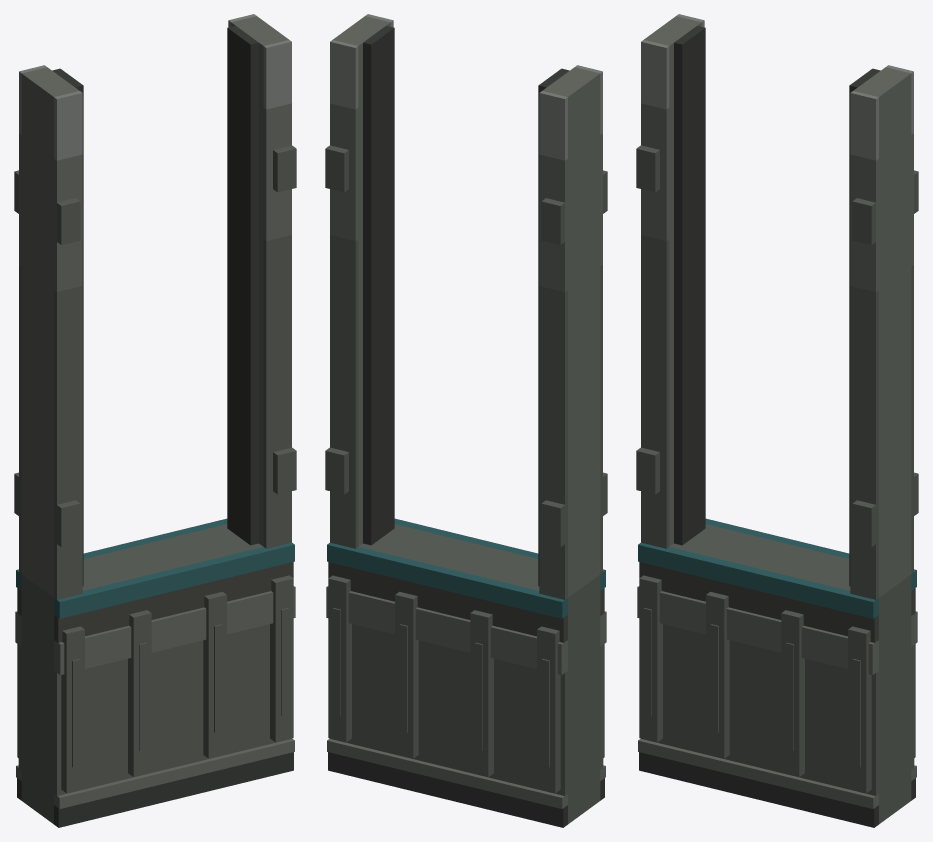
File: CMU3DColonyReinforcedWindowFrame.glb
3 views of the same model, side by side, from view 1: azimuth 30°, elevation 25°; view 2: azimuth 150°, elevation 25°; view 3: azimuth 330°, elevation 25° (orthographic).
Parts seen in each view (by area): view 1: Lower fascia -1, West free end carrier, East inner rubber seal, Deep colony sill, West carrier band 1.17 -1, East carrier band 1.17 -1, Raised sill rim -1, Pane seating lip -1, Upper recessed channel -1, Dark bottom seam -1, Foot rim -1, East free end carrier (+21 smaller); view 2: Lower fascia 1, West free end carrier, East inner rubber seal, Deep colony sill, West carrier band 1.17 1, East carrier band 1.17 1, Raised sill rim 1, Pane seating lip 1, Upper recessed channel 1, Dark bottom seam 1, Foot rim 1, East free end carrier (+21 smaller); view 3: Lower fascia -1, East free end carrier, West inner rubber seal, Deep colony sill, West carrier band 1.17 -1, East carrier band 1.17 -1, Raised sill rim -1, Pane seating lip -1, Upper recessed channel -1, Dark bottom seam -1, Foot rim -1, West free end carrier (+21 smaller).
Boxes of the visible parts, x1,y1,x2,y2 form: Lower fascia -1: (54,624,291,795); West free end carrier: (21,67,79,597); East inner rubber seal: (227,25,258,545); Deep colony sill: (21,524,263,824); West carrier band 1.17 -1: (54,286,82,498); East carrier band 1.17 -1: (263,235,291,447); Raised sill rim -1: (54,586,295,675); Pane seating lip -1: (54,542,294,618); Upper recessed channel -1: (54,562,293,642); Dark bottom seam -1: (54,752,293,827); Foot rim -1: (54,738,294,808); East free end carrier: (231,16,288,546); Lower fascia 1: (330,624,567,795); West free end carrier: (542,67,600,597); East inner rubber seal: (363,25,394,545); Deep colony sill: (358,524,600,824); West carrier band 1.17 1: (539,286,567,498); East carrier band 1.17 1: (330,235,358,447); Raised sill rim 1: (326,586,567,675); Pane seating lip 1: (327,542,567,618); Upper recessed channel 1: (328,562,567,642); Dark bottom seam 1: (328,752,567,827); Foot rim 1: (327,738,567,808); East free end carrier: (333,16,390,546); Lower fascia -1: (641,624,878,795); East free end carrier: (853,67,911,597); West inner rubber seal: (674,25,705,545); Deep colony sill: (669,524,911,824); West carrier band 1.17 -1: (641,235,669,447); East carrier band 1.17 -1: (850,286,878,498); Raised sill rim -1: (637,586,878,675); Pane seating lip -1: (638,542,878,618); Upper recessed channel -1: (639,562,878,642); Dark bottom seam -1: (639,752,878,827); Foot rim -1: (638,738,878,808); West free end carrier: (644,16,701,546).
Bounding box in the file's own units: 0.88 × 2.6 × 0.332.
